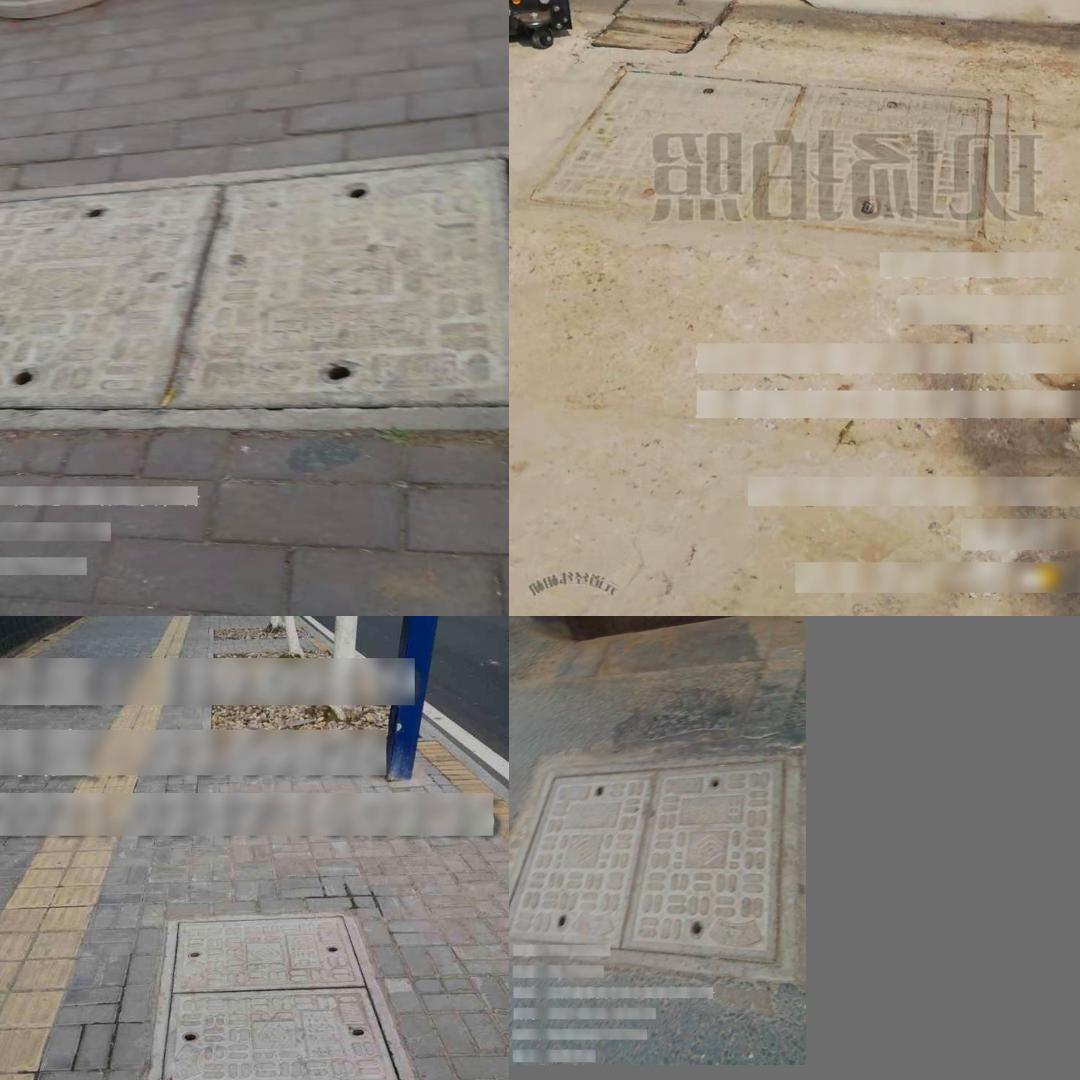good: (0, 144, 509, 430), (531, 81, 1016, 243), (510, 757, 795, 982), (144, 910, 423, 1080)
